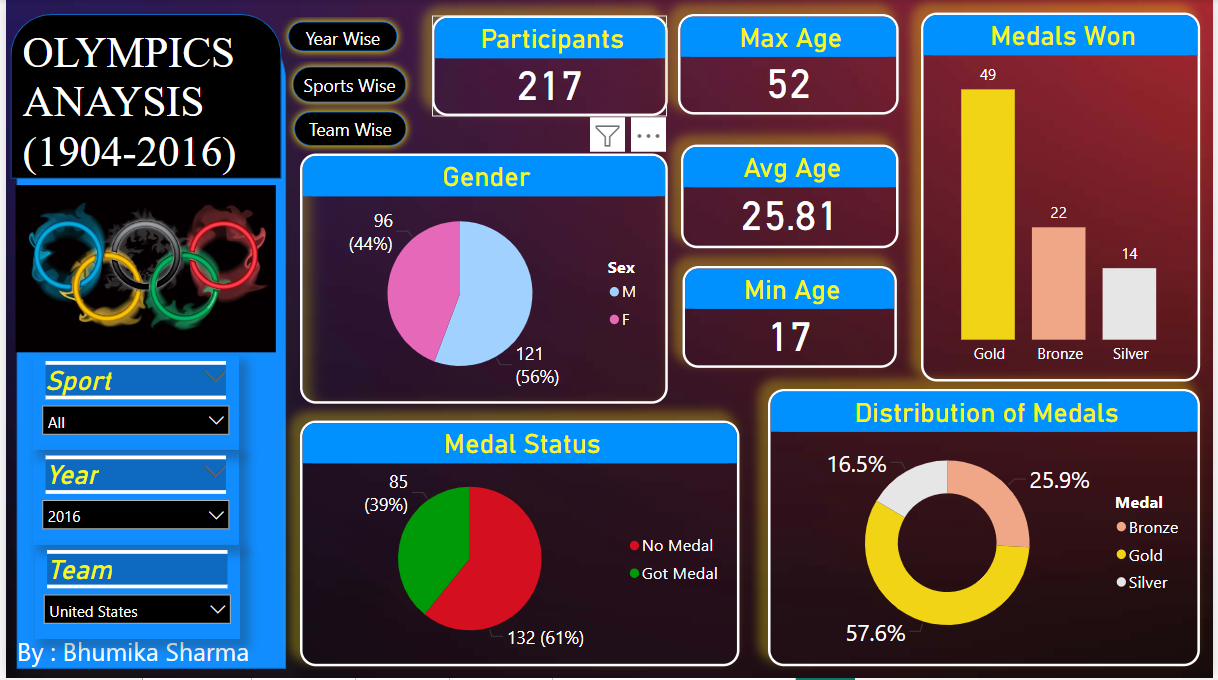

This screenshot's page, from the dashboard's own definition file:
{"tool":"powerbi","page":{"name":"Team","canvas":[1280,720],"ordinal":3},"visuals":[{"type":"shape","box":[1.6,14.3,286.3,693.5],"z":0},{"type":"slicer","fields":{"Values":["dataset_olympics.Team"]},"box":[12.7,405.6,197.2,112.9],"z":1000},{"type":"donutChart","title":"Distribution of Medals","fields":{"Series":["dataset_olympics.Medal"],"Y":["CountNonNull(dataset_olympics.ID)"]},"box":[808,413.6,458.1,294.3],"z":2000},{"type":"pieChart","title":"Gender","fields":{"Category":["dataset_olympics.Sex"],"Y":["CountNonNull(dataset_olympics.ID)"]},"box":[311.8,144.7,370.6,249.7],"z":3000},{"type":"columnChart","title":"Medals Won","fields":{"Category":["dataset_olympics.Medal"],"Y":["CountNonNull(dataset_olympics.ID)"]},"box":[924.1,14.3,342,391.3],"z":4000},{"type":"card","title":"Participants","fields":{"Values":["CountNonNull(dataset_olympics.ID)"]},"box":[311.8,15.9,276.8,106.6],"z":5000},{"type":"card","title":"Min Age","fields":{"Values":["Min(dataset_olympics.Age)"]},"box":[696.7,286.3,210,108.2],"z":6000},{"type":"pieChart","title":"Medal Status","fields":{"Y":["dataset_olympics.No Medal Count","dataset_olympics.Got_Medal_Count"]},"box":[311.8,405.6,466,302.2],"z":7000},{"type":"card","title":"Avg Age","fields":{"Values":["Avg(dataset_olympics.Age)"]},"box":[696.7,144.7,210,109.8],"z":8000},{"type":"textbox","box":[12.7,666.5,283.1,52.5],"z":9000},{"type":"card","title":"Max Age","fields":{"Values":["Max(dataset_olympics.Age)"]},"box":[617.2,14.3,279.9,106.6],"z":10000},{"type":"shape","box":[1.6,540.8,143.2,62],"z":11000},{"type":"shape","box":[36.6,604.4,219.5,62],"z":12000},{"type":"shape","box":[132,542.4,155.9,62],"z":13000},{"type":"shape","box":[0,33.4,287.9,175],"z":14000},{"type":"image","box":[3.2,210,286.3,210],"z":15000}]}

Visuals, with their boxes in screenshot pixels (x1, y1, x2, y2), scaled from the page's 1280x720 canvas onto the 1218x680 screenshot:
shape: <box>2,14,274,668</box>
slicer - dataset_olympics.Team: <box>12,383,200,490</box>
"Distribution of Medals" donutChart: <box>769,391,1205,669</box>
"Gender" pieChart: <box>297,137,649,372</box>
"Medals Won" columnChart: <box>879,14,1205,383</box>
"Participants" card: <box>297,15,560,116</box>
"Min Age" card: <box>663,270,863,373</box>
"Medal Status" pieChart: <box>297,383,740,668</box>
"Avg Age" card: <box>663,137,863,240</box>
textbox: <box>12,629,281,679</box>
"Max Age" card: <box>587,14,854,114</box>
shape: <box>2,511,138,569</box>
shape: <box>35,571,244,629</box>
shape: <box>126,512,274,571</box>
shape: <box>0,32,274,197</box>
image: <box>3,198,275,397</box>
